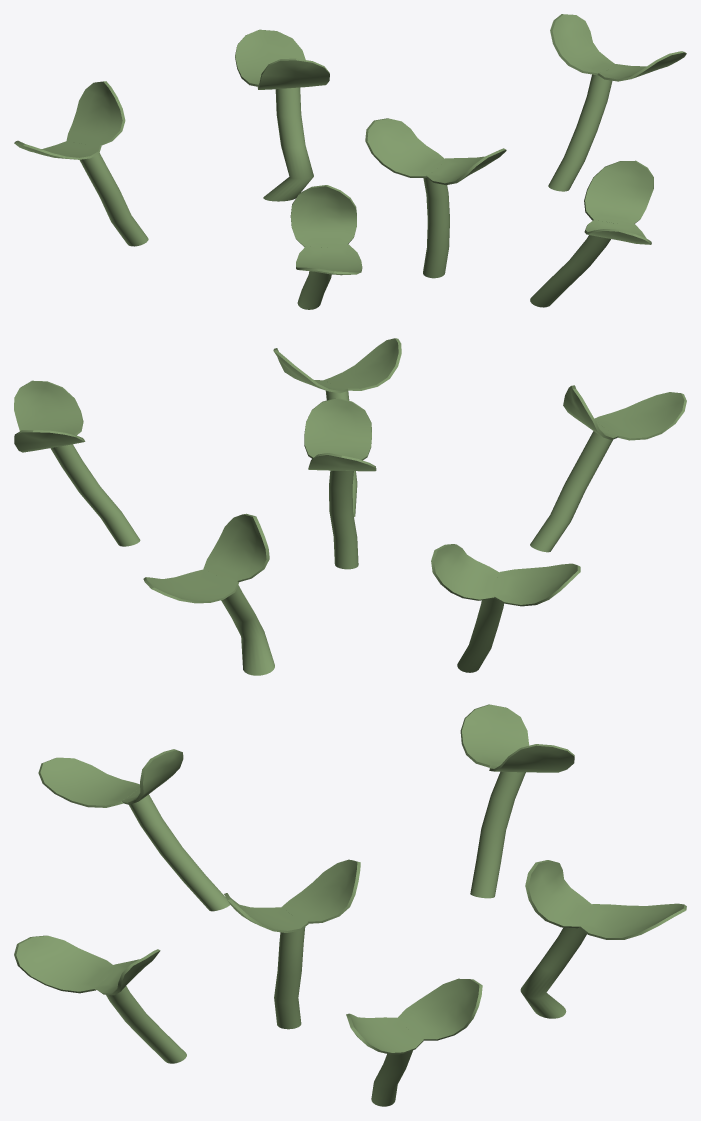
Rendered from Catnip_Bush_Start.fbx.
The picture shows the model from 3 angles, top to bottom: view 1: azimuth 30°, elevation 25°; view 2: azimuth 150°, elevation 25°; view 3: azimuth 270°, elevation 25°; orthographic projection. The views are drawn at different scales.
Parts seen in each view (by area): view 1: Catnip_Start_Bush; view 2: Catnip_Start_Bush; view 3: Catnip_Start_Bush.
Boxes of the visible parts, x1,y1,x2,y2 form: Catnip_Start_Bush: (14, 14, 686, 309); Catnip_Start_Bush: (14, 338, 686, 675); Catnip_Start_Bush: (14, 704, 686, 1106).
Size of the model in its own units: 12.68 by 3.51 by 11.21.
